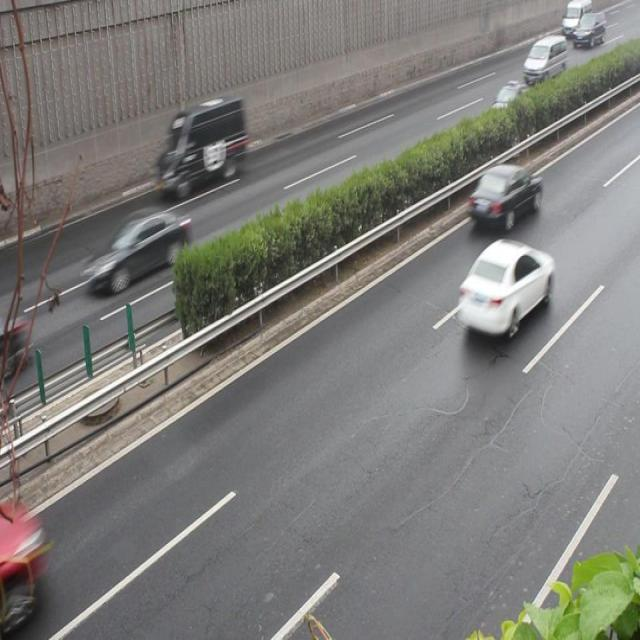car: (82, 208, 190, 297), (456, 239, 552, 333), (466, 162, 540, 228), (480, 81, 533, 131)
truck: (152, 97, 245, 196)
